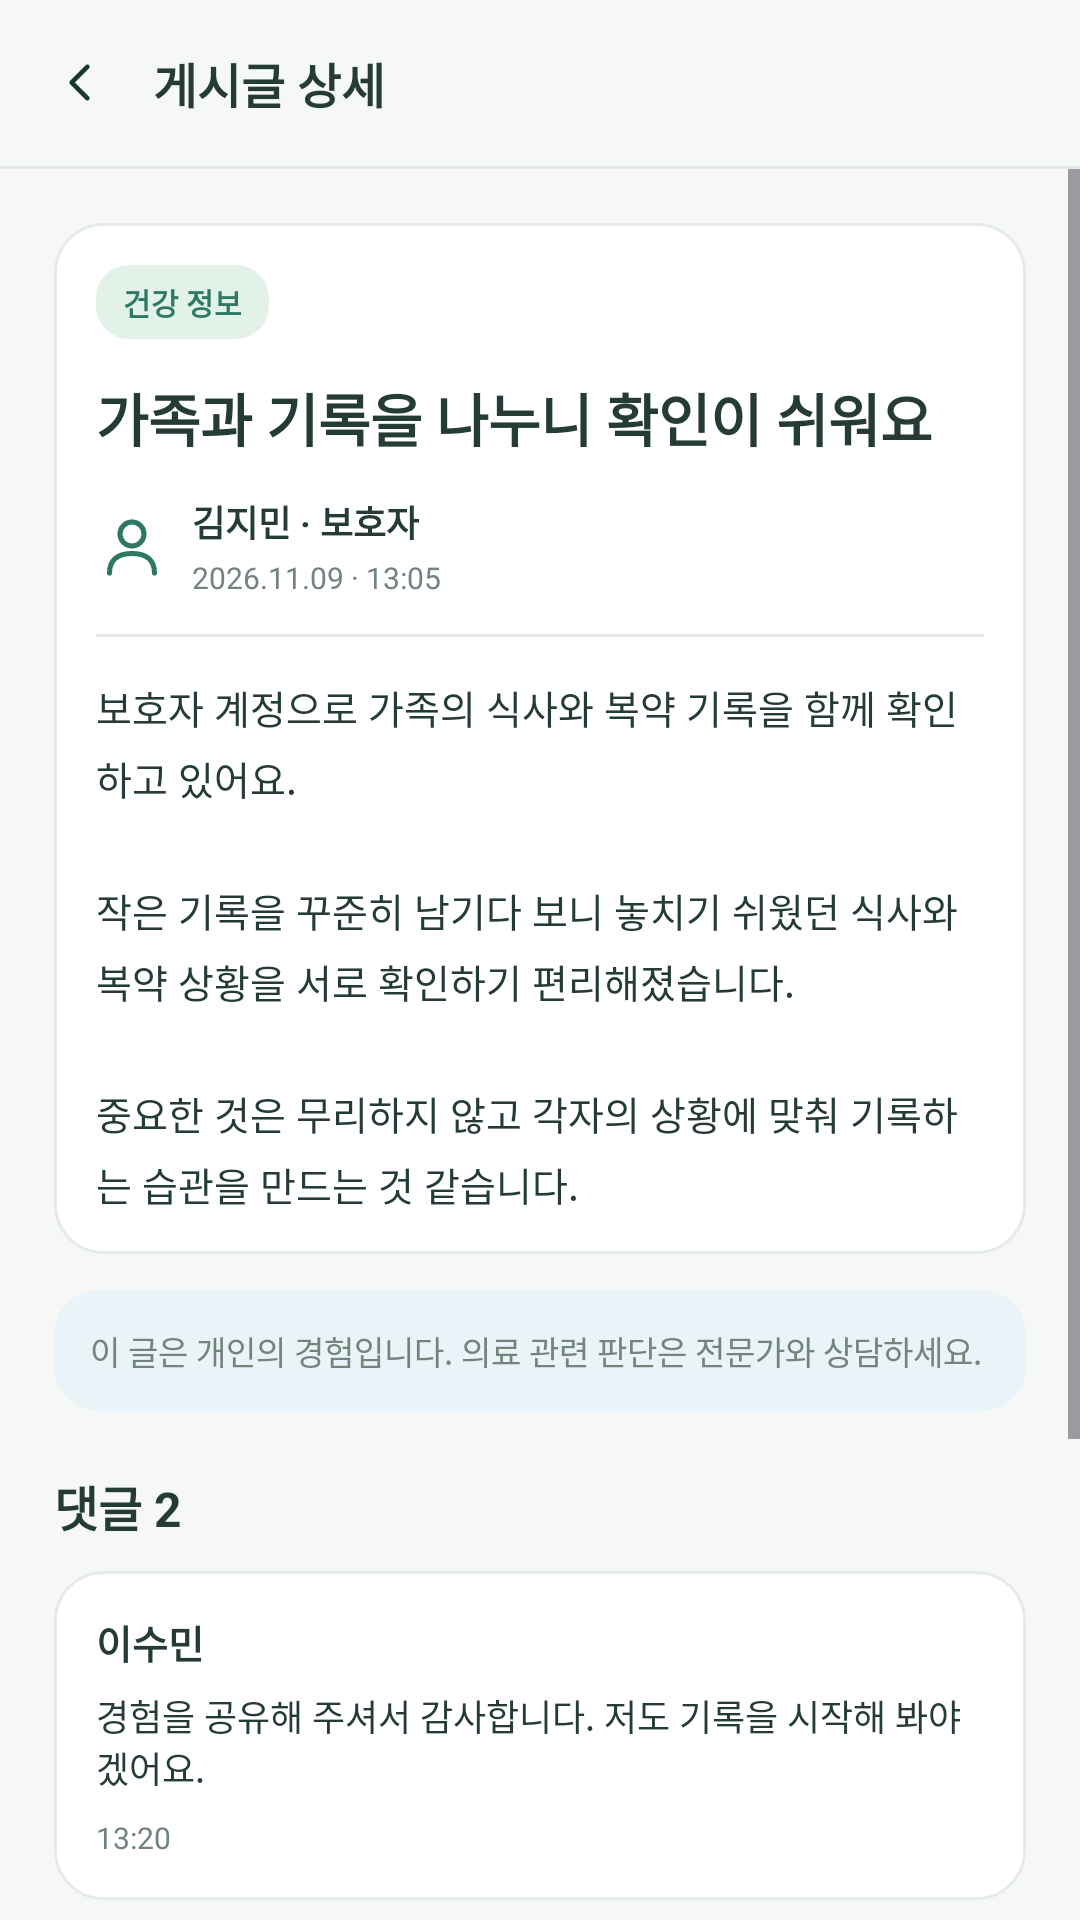

Named icons in this screenshot (1080*1920) and their bounding boxes, (x1, y1, x2, y2):
back: (69, 64, 90, 101)
user: (107, 519, 157, 576)
